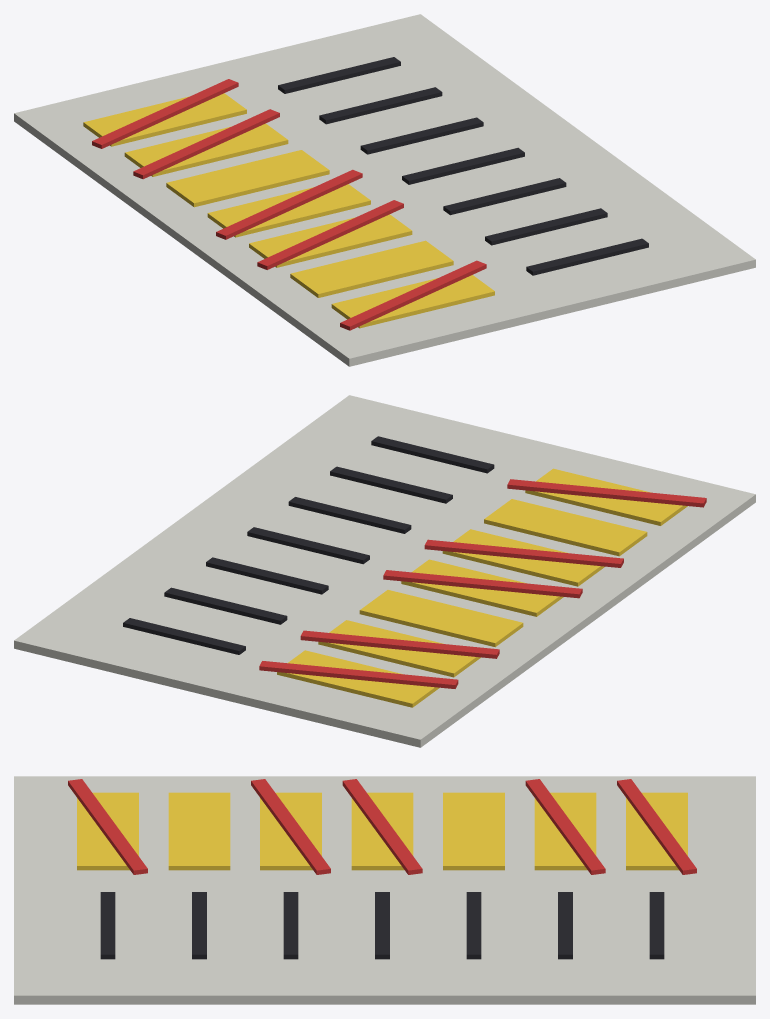
The model's file is garage_plates_list.glb.
3 views of the same model, one above another, from view 1: azimuth 30°, elevation 25°; view 2: azimuth 150°, elevation 25°; view 3: azimuth 270°, elevation 25° (orthographic). The views are drawn at different scales.
Visible parts, largest first — view 1: paper_counter_white, plates_plate_yellow (×7), lines_sheet_ink (×7), ticks_sign_red (×5); view 2: paper_counter_white, plates_plate_yellow (×7), ticks_sign_red (×5), lines_sheet_ink (×7); view 3: paper_counter_white, plates_plate_yellow (×7), ticks_sign_red (×5), lines_sheet_ink (×7).
Part boxes in pixels (x1,y1,x2,y2): paper_counter_white: (14,14,755,366); plates_plate_yellow (×7): (83,93,494,328); lines_sheet_ink (×7): (278,57,648,275); ticks_sign_red (×5): (92,79,486,330); paper_counter_white: (14,395,755,747); plates_plate_yellow (×7): (277,468,687,707); ticks_sign_red (×5): (259,479,706,688); lines_sheet_ink (×7): (123,436,494,654); paper_counter_white: (14,776,755,1004); plates_plate_yellow (×7): (77,792,687,870); ticks_sign_red (×5): (68,779,696,874); lines_sheet_ink (×7): (100,892,664,959).
Bounding box in the file's own units: 0.21 × 0.008 × 0.3.
